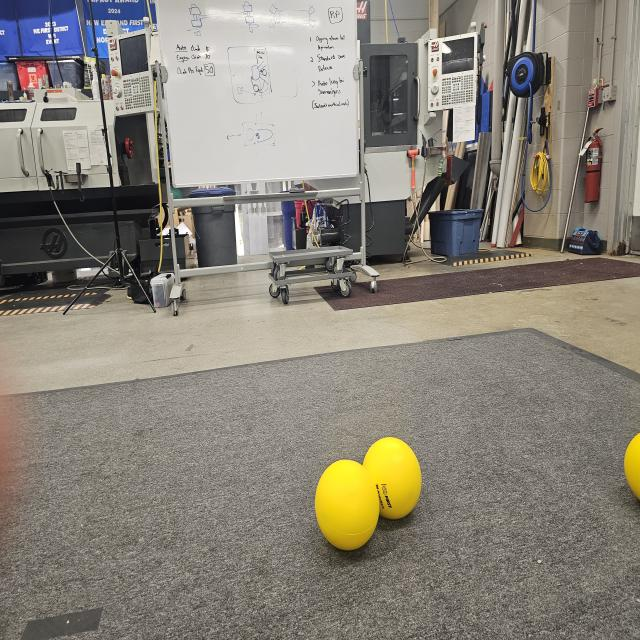Fuel: (317, 460, 379, 548), (364, 438, 420, 519), (624, 431, 640, 504)
